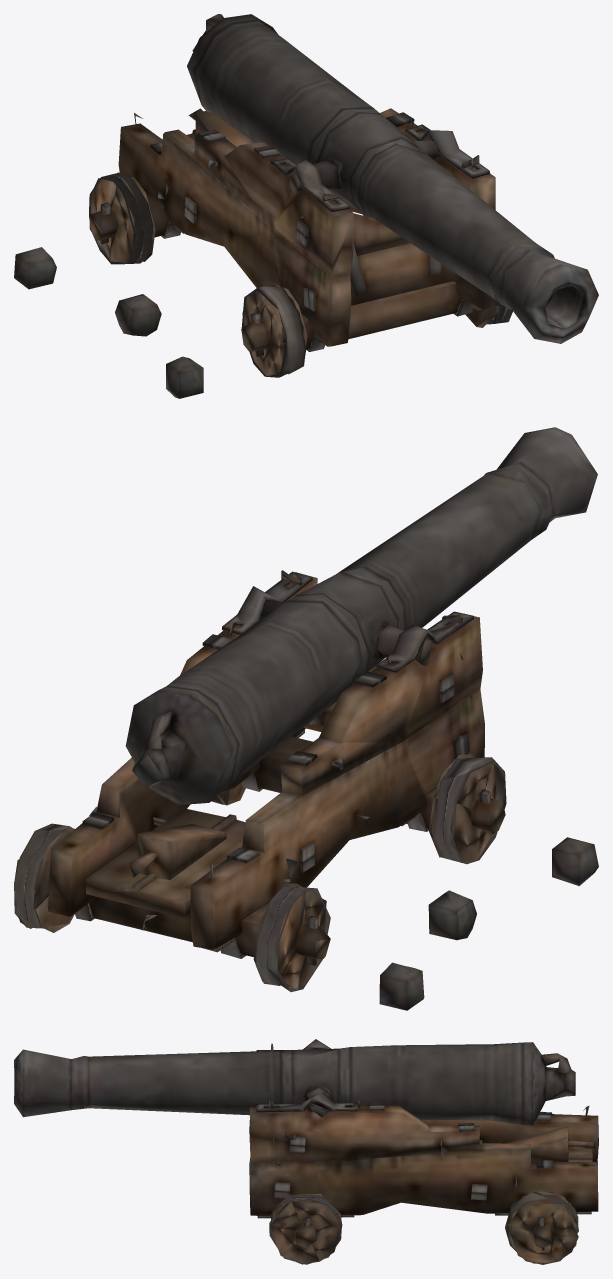
File: cannon-iron-real.lite.873369f6.glb
3 renders of one model, top to bottom at view 1: azimuth 30°, elevation 25°; view 2: azimuth 150°, elevation 25°; view 3: azimuth 270°, elevation 25°, orthographic. The views are drawn at different scales.
Parts seen in each view (by area): view 1: model; view 2: model; view 3: model.
Part boxes in pixels (left/top/right/bottom): model: left=14, top=14, right=598, bottom=398; model: left=14, top=427, right=598, bottom=1010; model: left=14, top=1039, right=598, bottom=1264.
Size of the model in its own units: 1.23 by 0.7625 by 2.3.
Materials: 1 (1 with a texture image).
